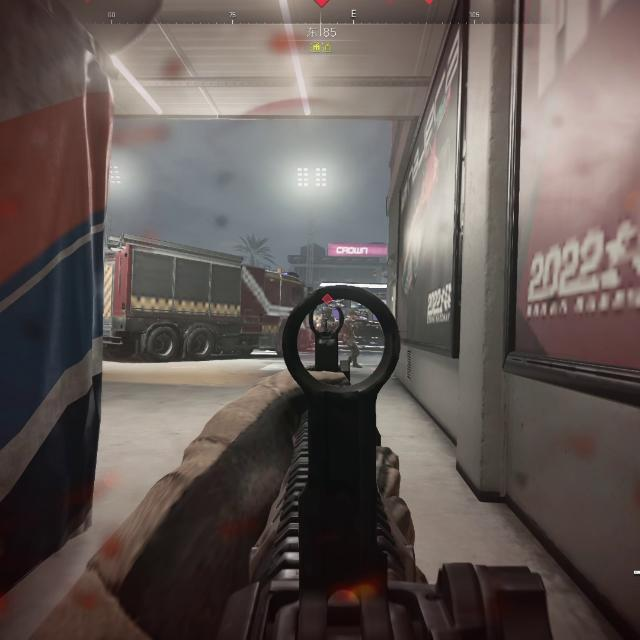MW2_body: (341, 311, 365, 368), (317, 294, 335, 332)
